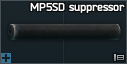MP5SD 9x19 sound suppressor: (0, 0, 127, 64)
